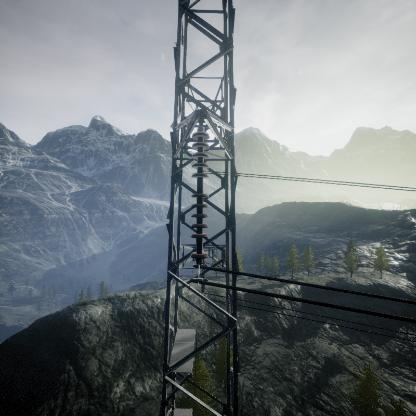insulator: (191, 125, 211, 266)
